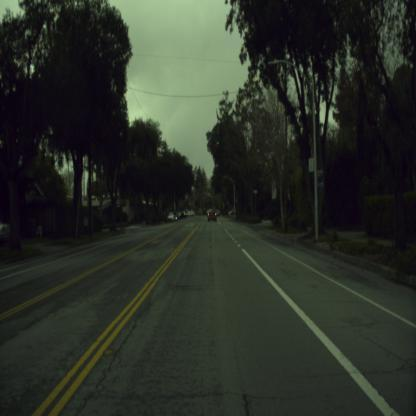Green: (210, 193, 212, 197), (189, 200, 190, 205), (218, 202, 219, 206)
Red: (204, 192, 205, 196)
